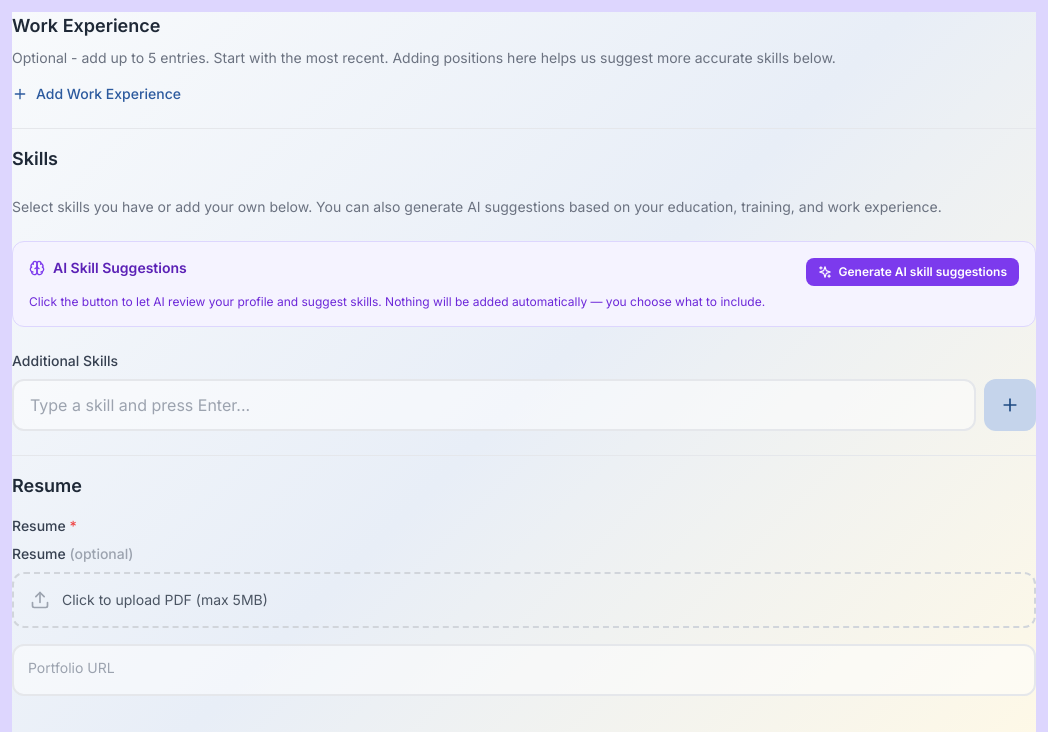
it: Step5SkillsExperience — AI skill suggestions › shows deterministic fallback when the AI helper returns an error result
Click the button "Generate AI skill suggestions" at (913, 272), box [806, 258, 1019, 286]
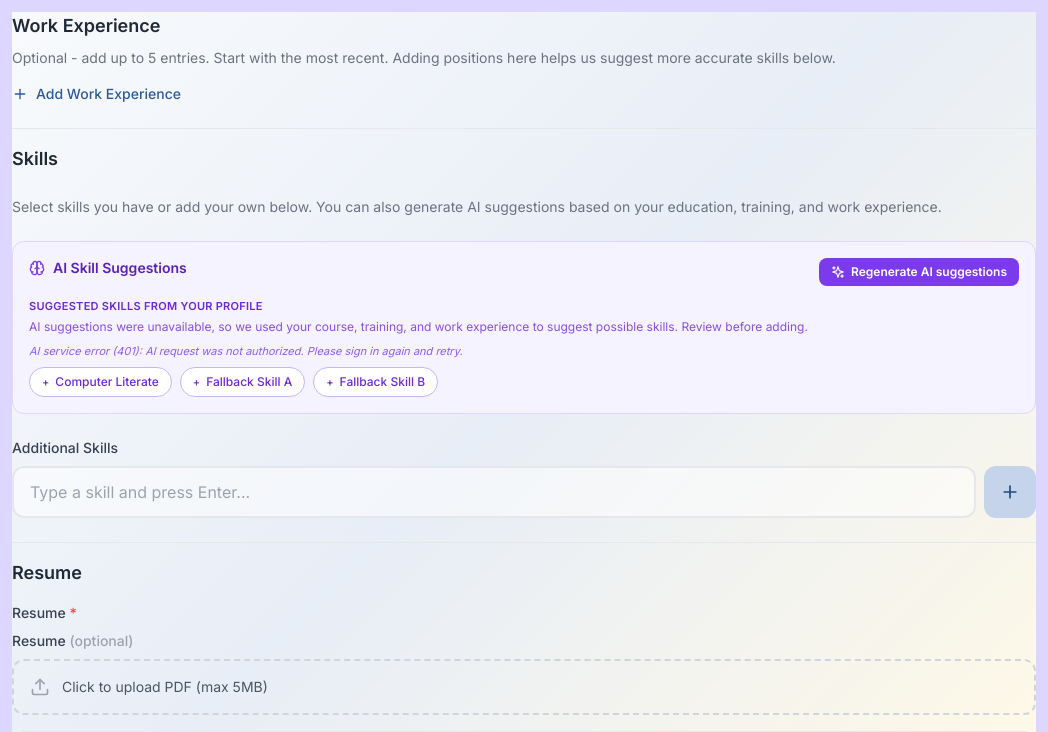
Check: the text "Suggested Skills From Your Profile" is shown, box [29, 299, 263, 313]
Check: the text "AI service error (401)" is shown, box [29, 344, 463, 358]
Check: the text "Fallback Skill A" is shown, box [206, 374, 292, 390]
